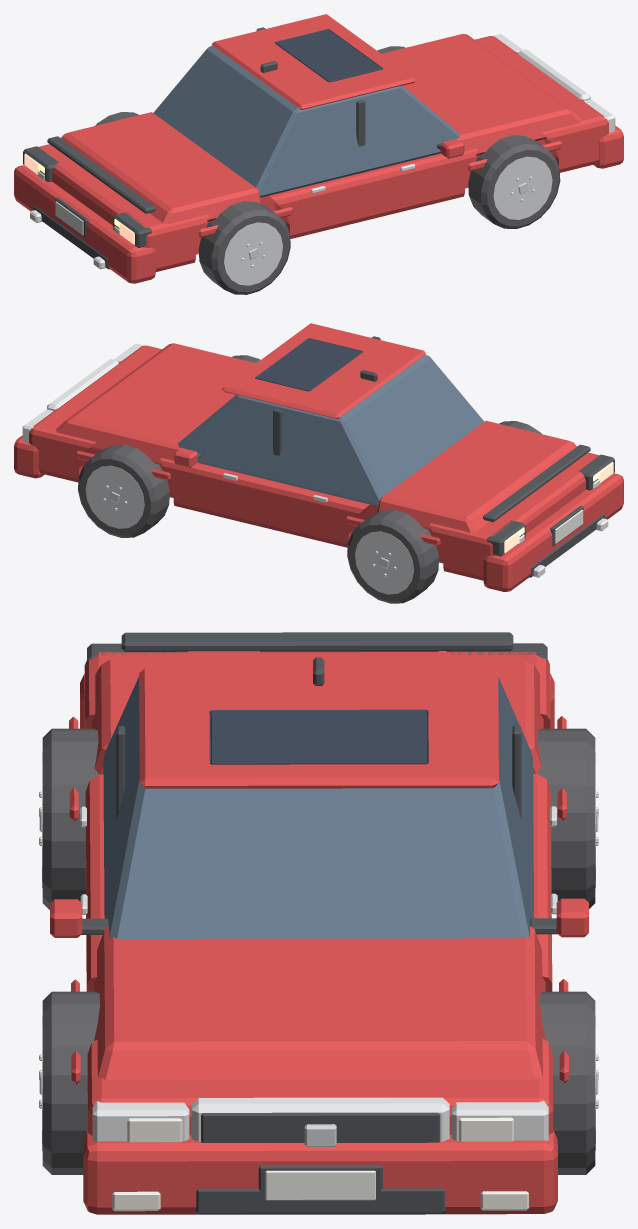
Rendered from Sedan.fbx.
3 views of the same model, one above another, from view 1: azimuth 30°, elevation 25°; view 2: azimuth 150°, elevation 25°; view 3: azimuth 270°, elevation 25° (orthographic). The views are drawn at different scales.
Visible parts, largest first — view 1: Sedan_Body, Sedan_Wheel_FR, Sedan_Wheel_RR; view 2: Sedan_Body, Sedan_Wheel_RL, Sedan_Wheel_FL; view 3: Sedan_Body, Sedan_Wheel_FR, Sedan_Wheel_FL, Sedan_Wheel_RL, Sedan_Wheel_RR.
Part boxes in pixels (left/top/right/bottom): Sedan_Body: left=14, top=14, right=623, bottom=283; Sedan_Wheel_FR: left=468, top=135, right=560, bottom=228; Sedan_Wheel_RR: left=198, top=201, right=290, bottom=294; Sedan_Body: left=14, top=323, right=623, bottom=591; Sedan_Wheel_RL: left=347, top=510, right=438, bottom=603; Sedan_Wheel_FL: left=78, top=444, right=169, bottom=537; Sedan_Body: left=50, top=632, right=588, bottom=1214; Sedan_Wheel_FR: left=39, top=991, right=99, bottom=1174; Sedan_Wheel_FL: left=539, top=991, right=598, bottom=1174; Sedan_Wheel_RL: left=536, top=728, right=598, bottom=908; Sedan_Wheel_RR: left=39, top=728, right=99, bottom=909.
Bounding box in the file's own units: 507 × 155 × 243.
